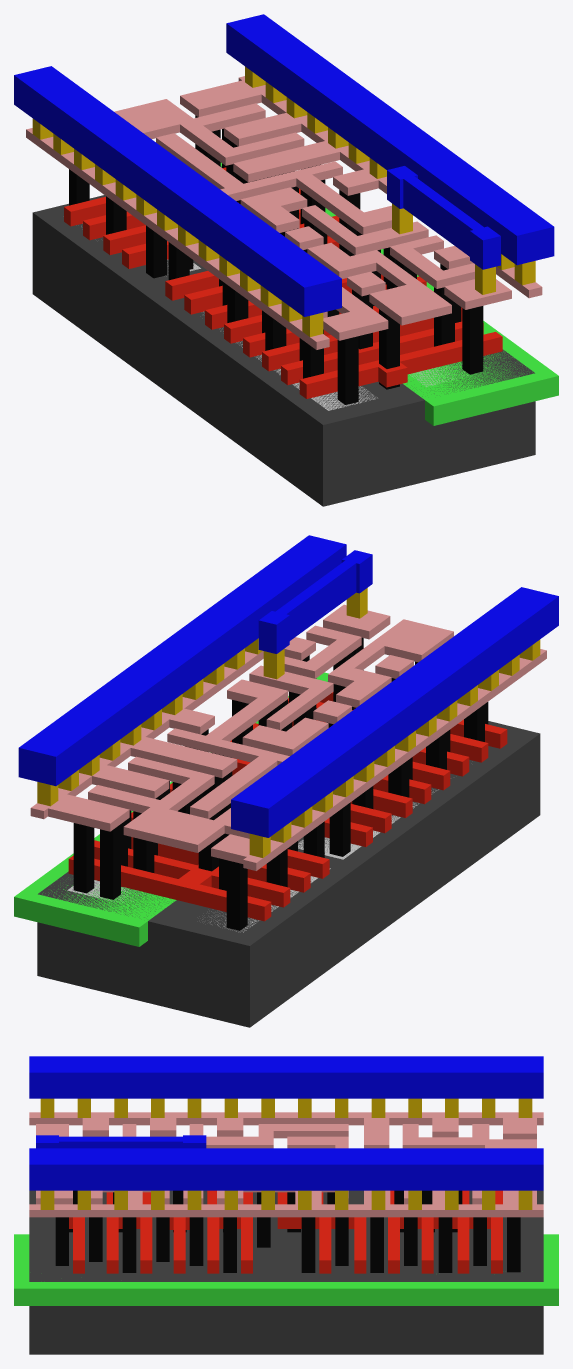
The model's file is sky130_fd_sc_hd__o31a_4.obj.
3 views of the same model, one above another, from view 1: azimuth 30°, elevation 25°; view 2: azimuth 150°, elevation 25°; view 3: azimuth 270°, elevation 25° (orthographic). The views are drawn at different scales.
Visible parts, largest first — view 1: subs, metal1, li, poly, licon, mcon, nwell, diff; view 2: subs, metal1, li, poly, licon, mcon, nwell, diff; view 3: metal1, subs, li, nwell, licon, poly, mcon.
Boxes of the visible parts, x1,y1,x2,y2 form: subs: (32,166,535,506); metal1: (14,14,554,316); li: (26,76,542,349); poly: (64,167,502,398); licon: (69,115,483,404); mcon: (32,66,535,336); nwell: (220,162,558,425); diff: (81,226,377,410); subs: (37,721,540,1027); metal1: (18,535,558,837); li: (30,604,546,870); poly: (68,692,507,921); licon: (73,637,488,930); mcon: (37,588,540,857); nwell: (14,672,328,946); diff: (202,789,438,932); metal1: (29,1056,543,1190); subs: (29,1190,543,1354); li: (29,1112,543,1217); nwell: (14,1234,558,1305); licon: (55,1190,520,1272); poly: (69,1190,502,1273); mcon: (40,1098,532,1209).
Bounding box in the file's own units: 3.2 × 2.74 × 6.82.
